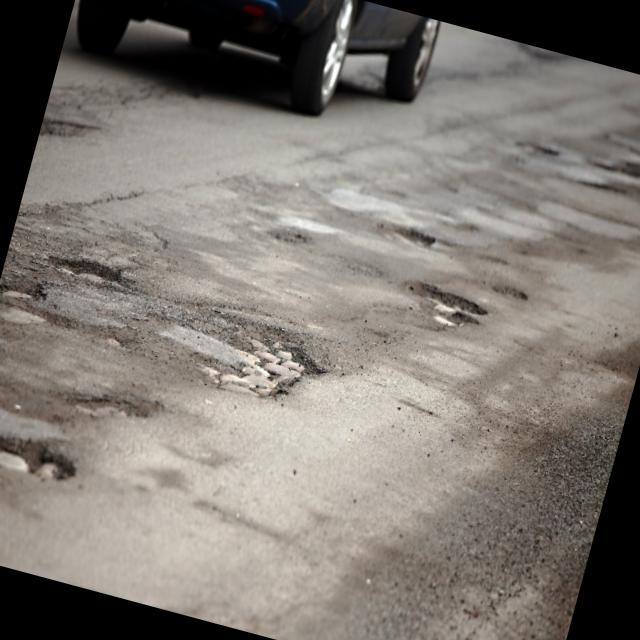Potholes: (162, 304, 313, 429), (0, 229, 134, 333), (389, 260, 503, 368), (0, 407, 104, 519), (582, 67, 640, 212), (366, 200, 440, 266), (480, 266, 540, 322), (510, 121, 570, 172), (260, 205, 314, 256)
